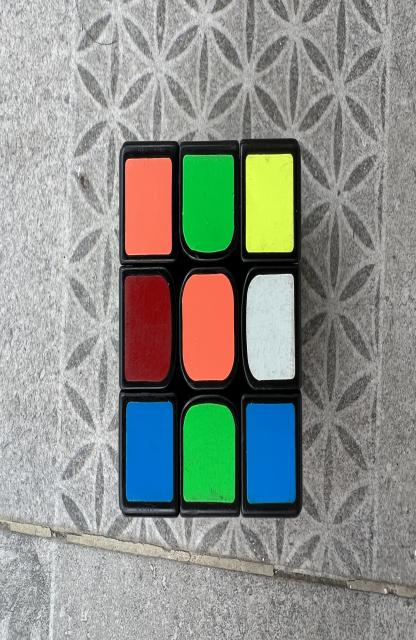Blue: (246, 403, 296, 503), (126, 402, 173, 502)
Green: (184, 403, 236, 503), (183, 155, 234, 253)
Orange: (182, 273, 235, 382), (125, 158, 171, 255)
Red: (124, 275, 171, 382)
White: (246, 273, 295, 380)
Yellow: (245, 153, 294, 253)
